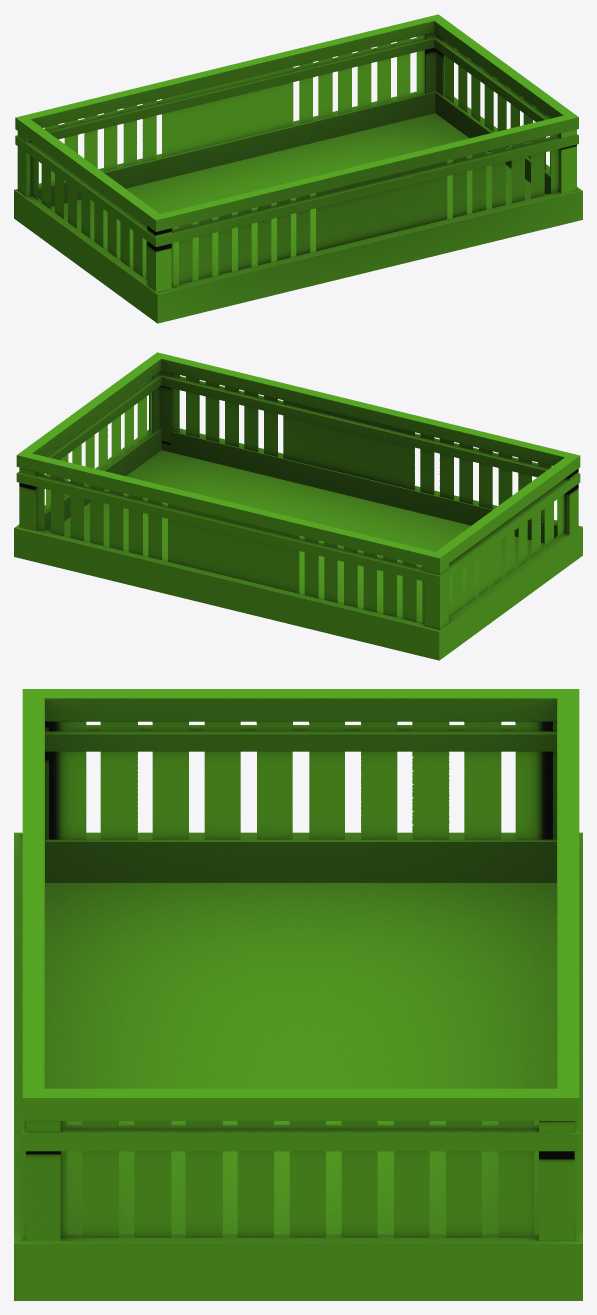
File: basketB.fbx
The picture shows the model from 3 angles, top to bottom: view 1: azimuth 30°, elevation 25°; view 2: azimuth 150°, elevation 25°; view 3: azimuth 270°, elevation 25°; orthographic projection. The views are drawn at different scales.
Visible parts, largest first — view 1: polySurface51; view 2: polySurface51; view 3: polySurface51.
Boxes of the visible parts, bbox=[...] form: polySurface51: bbox=[14, 14, 582, 323]; polySurface51: bbox=[14, 352, 582, 660]; polySurface51: bbox=[14, 689, 582, 1300].
Bounding box in the file's own units: 8.72 × 1.99 × 5.1.
1 material, 1 textured.
